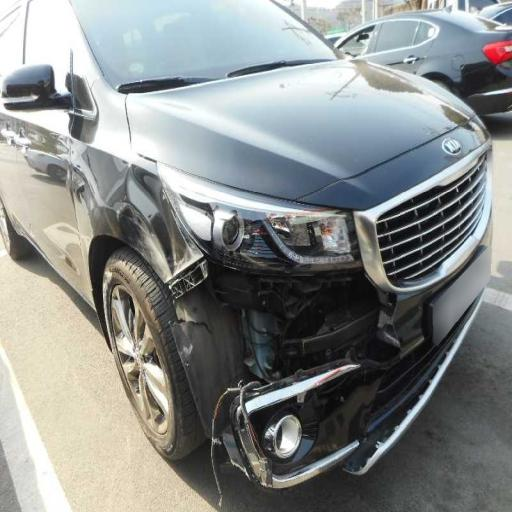broken: (166, 220, 385, 453)
